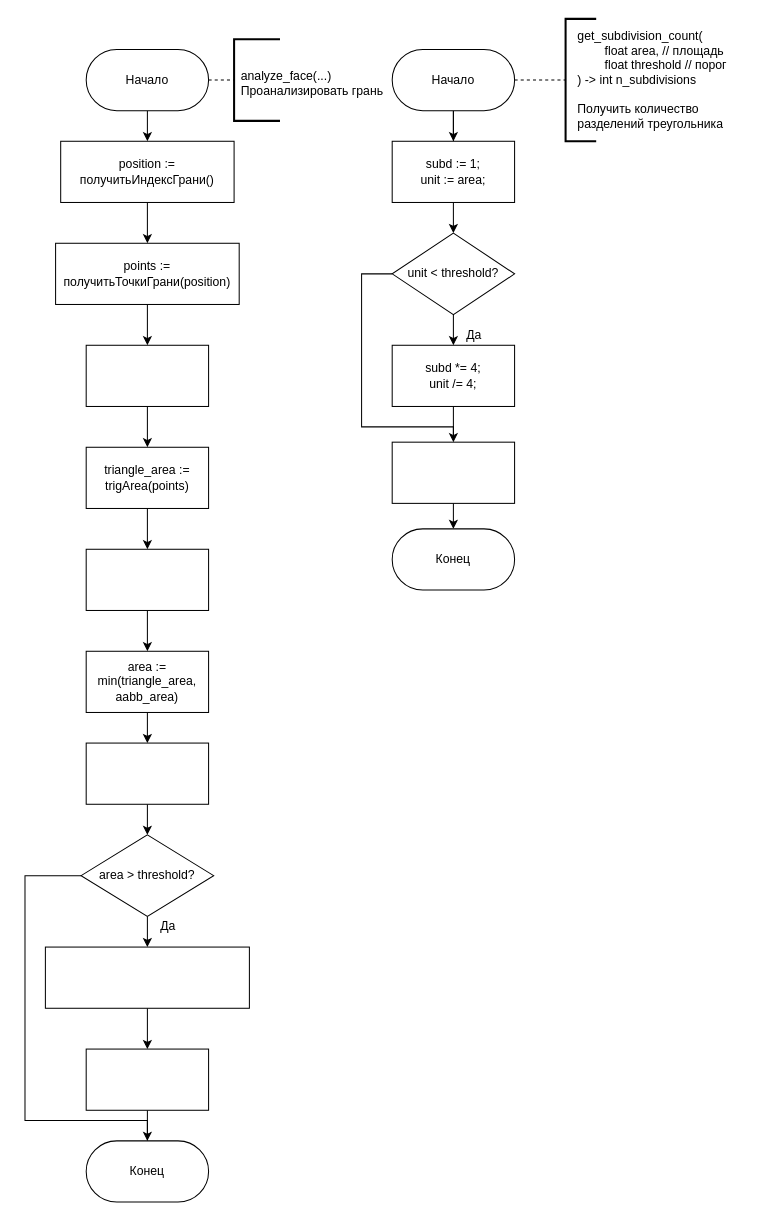
Image size: 757x1220. Some labels were removed from this diagram. The shapes that lost their labels are listed below. From the top down, each one's box as (x1, y1, x2, y2) in pixels, then its label:
(85, 344, 209, 406): aabb := getAABB(points)
(391, 441, 515, 503): вернуть subd
(85, 548, 209, 610): aabb_area := rectangleArea(aabb)
(85, 742, 209, 804): записать area в буффер площадей граней
(44, 946, 249, 1008): subd := get_subdivision_count(area, threshold)
(85, 1048, 209, 1110): atomicAdd( n_virtual_faces, subd )
